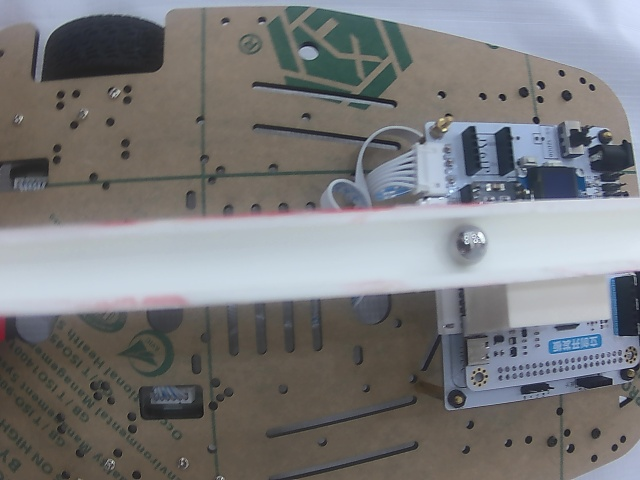steelball: (448, 224, 489, 263)
